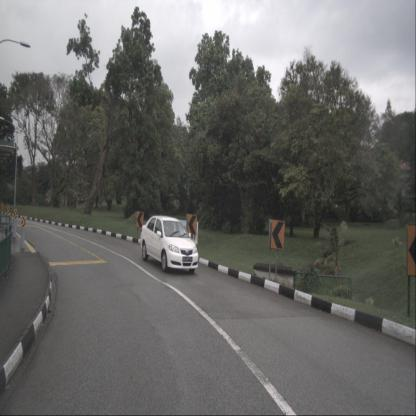vehicle-car: (140, 215, 200, 274)
